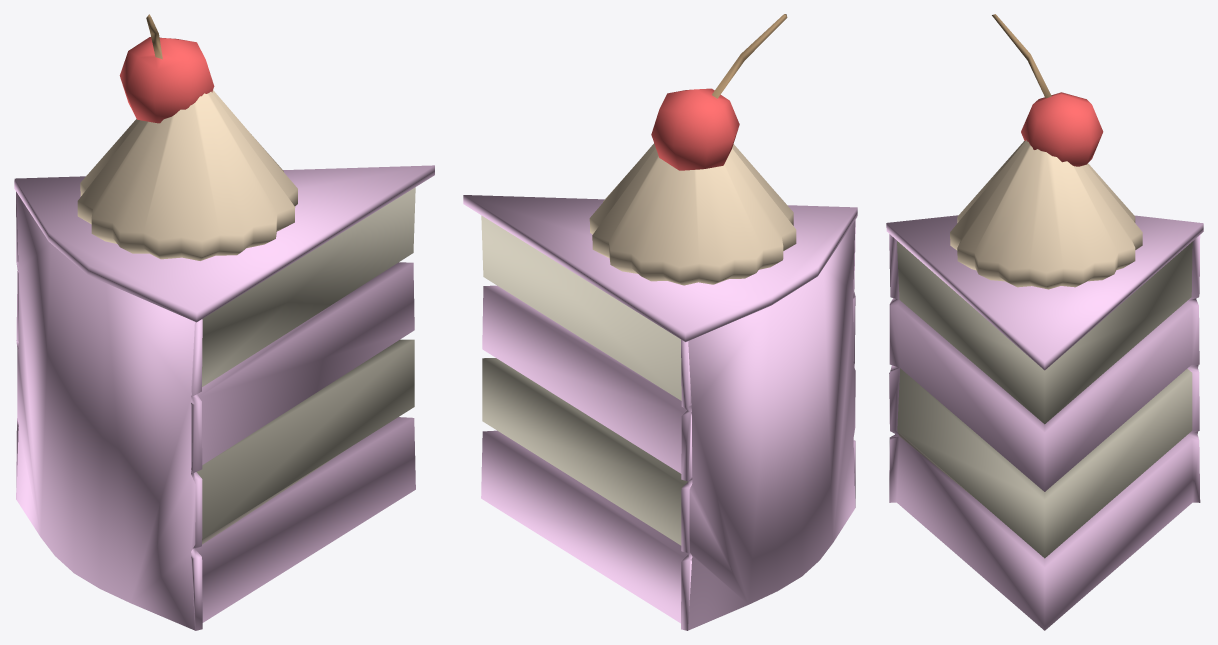
The model's file is pasta.fbx.
The picture shows the model from 3 angles, left to right: view 1: azimuth 30°, elevation 25°; view 2: azimuth 150°, elevation 25°; view 3: azimuth 270°, elevation 25°; orthographic projection. The views are drawn at different scales.
Parts seen in each view (by area): view 1: Cube; view 2: Cube; view 3: Cube.
Boxes of the visible parts, box(x1,y1,x2,y2) form: Cube: box(14, 14, 434, 630); Cube: box(463, 14, 857, 630); Cube: box(886, 14, 1203, 630).
Size of the model in its own units: 12.26 by 18.35 by 10.73.
